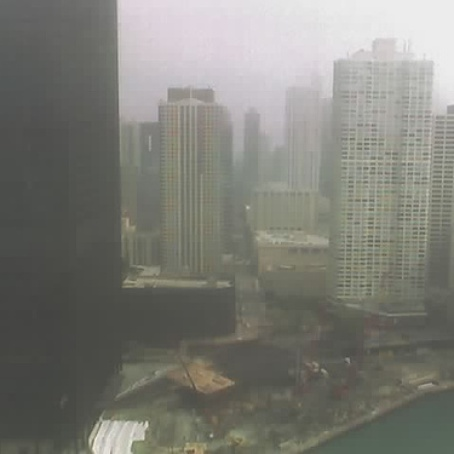building: (328, 42, 438, 335), (247, 72, 332, 307), (154, 83, 229, 297)
sky: (131, 1, 454, 96)
